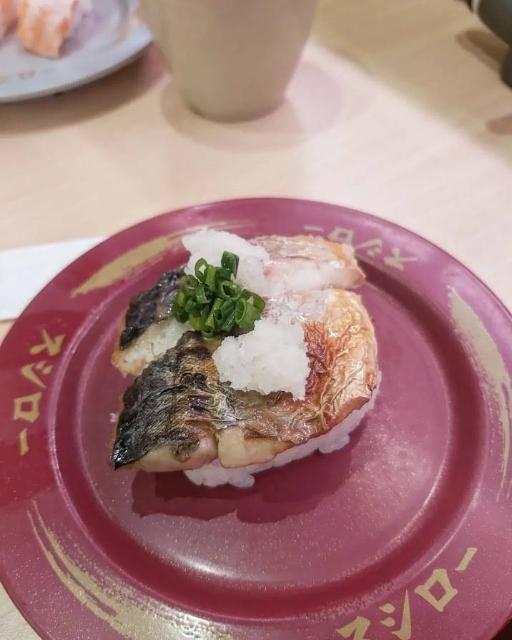janred: (25, 223, 480, 578)
janwhite: (0, 0, 170, 99)
